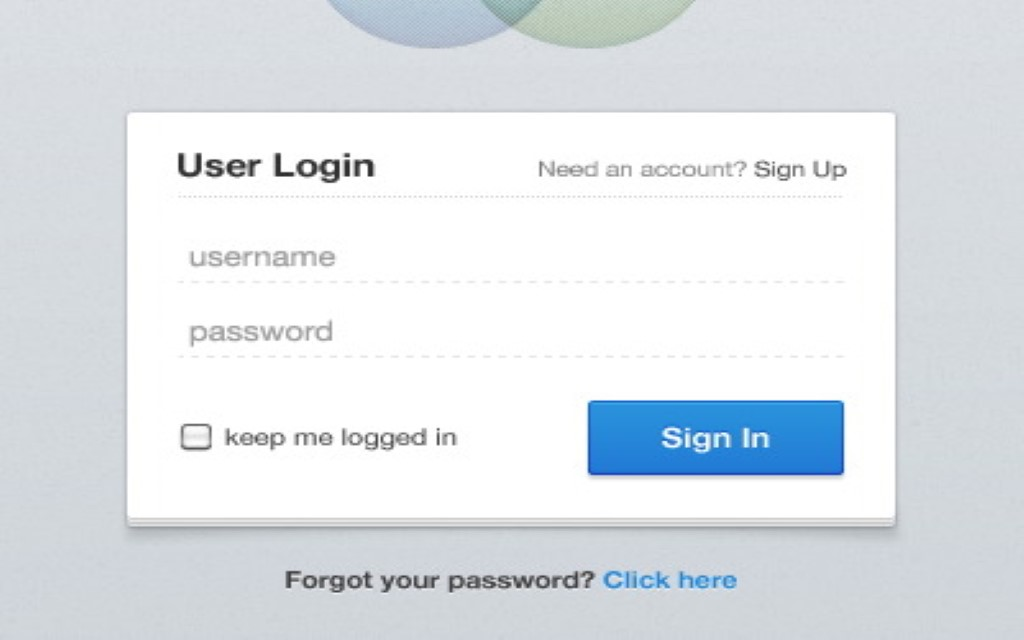button: (589, 401, 845, 475)
button_SignIn: (589, 402, 843, 476)
checkbox: (182, 422, 209, 448)
label_SignIn: (660, 423, 772, 455)
label_Username: (187, 243, 337, 271)
label_password: (186, 319, 340, 347)
textbox: (178, 220, 830, 282), (175, 303, 830, 356)
textbox_Password: (175, 303, 831, 356)
textbox_username: (179, 220, 831, 283)
url: (605, 569, 737, 593)
